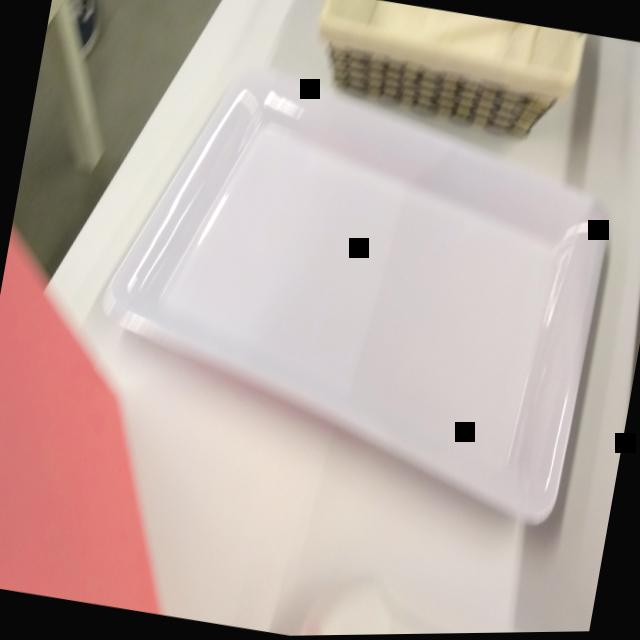tray: (76, 50, 634, 530)
